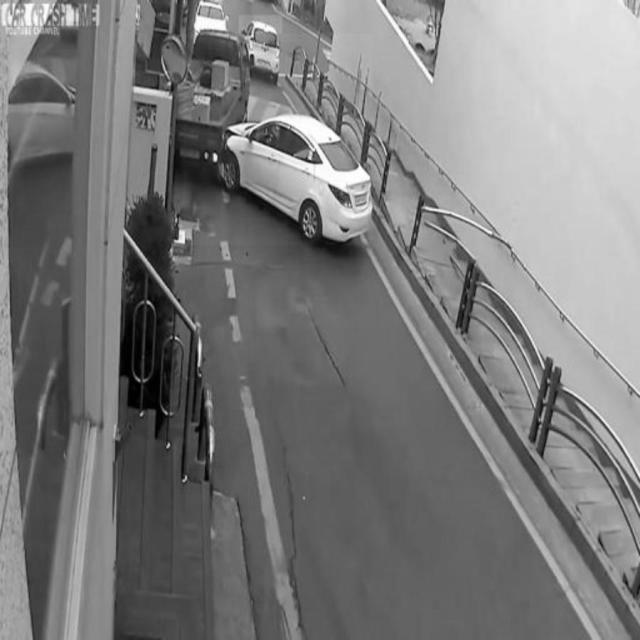accident: (183, 34, 373, 245)
vehicle: (239, 15, 283, 83)
